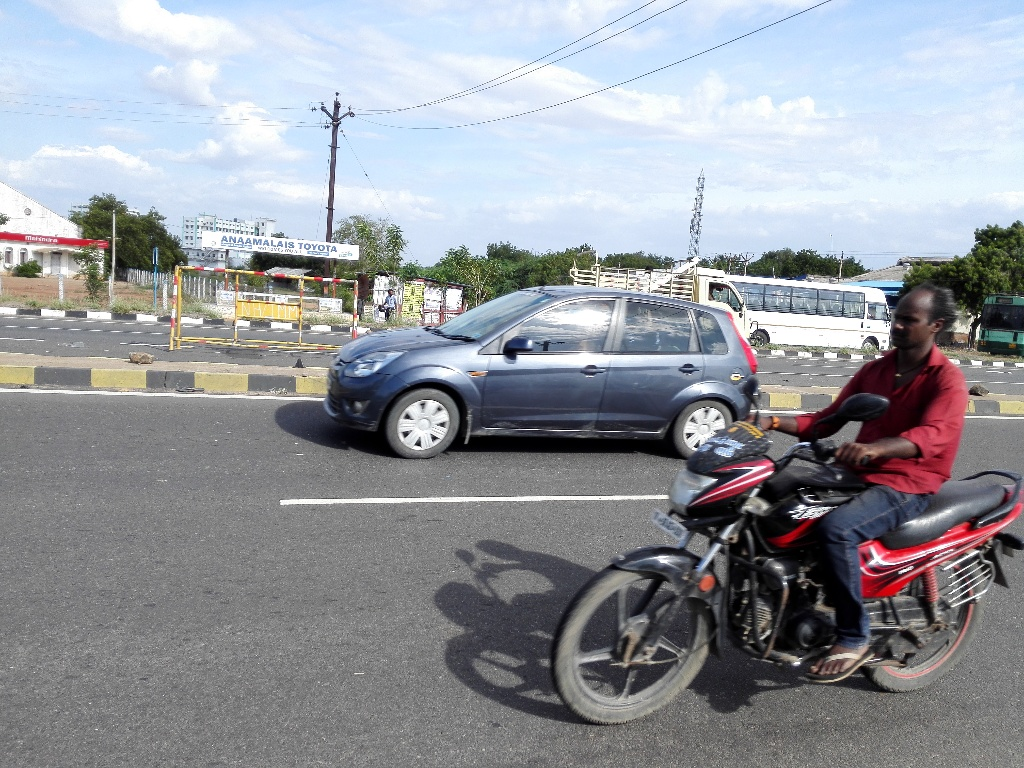biker: (542, 243, 1024, 736)
nohelmet: (876, 272, 965, 371)
